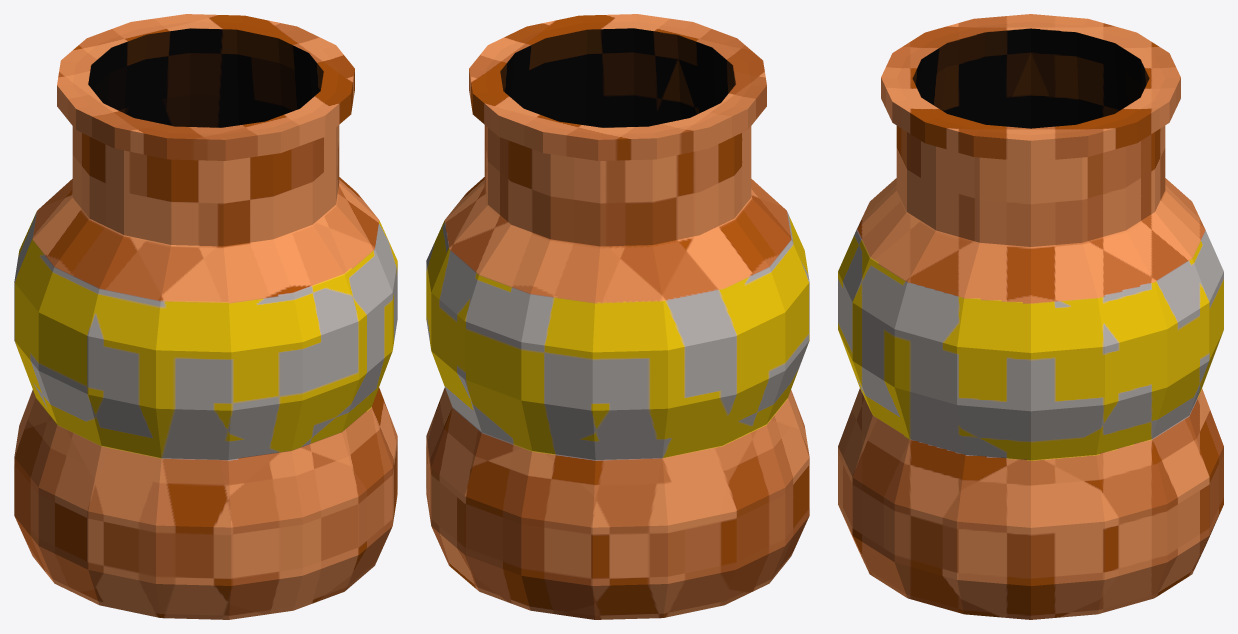
File: jug2.fbx
The picture shows the model from 3 angles, left to right: view 1: azimuth 30°, elevation 25°; view 2: azimuth 150°, elevation 25°; view 3: azimuth 270°, elevation 25°; orthographic projection.
Parts seen in each view (by area): view 1: jug2; view 2: jug2; view 3: jug2.
Part boxes in pixels (<box>): jug2: <box>14,14,397,619</box>; jug2: <box>426,14,809,619</box>; jug2: <box>838,14,1223,619</box>.
Size of the model in its own units: 200 by 268 by 200.
Materials: 3 (3 with a texture image).
